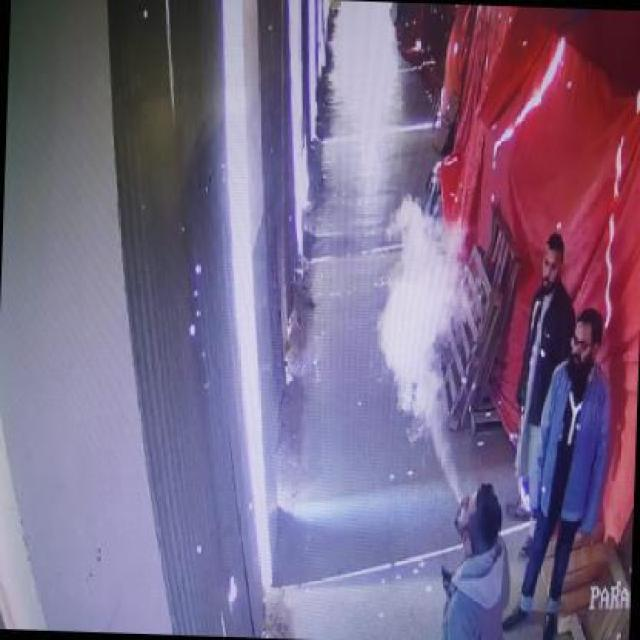fire: (370, 191, 473, 500)
